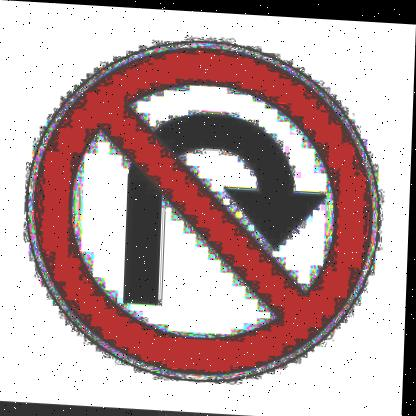No U-turn: (27, 36, 389, 372)
